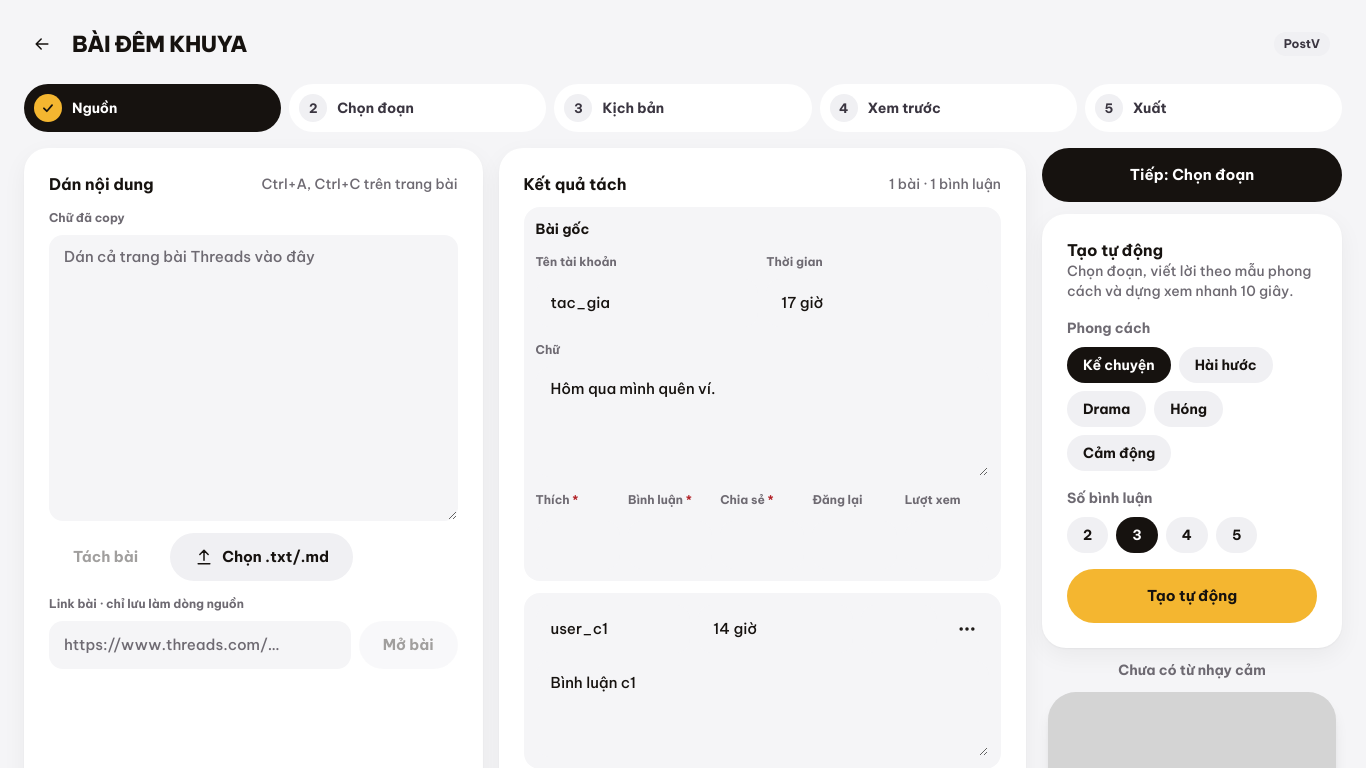
PostvLayout: thanh bước ở đầu › moves between steps with the bar and marks the current one
Click the link with aria-label "Bước 2/5: Chọn đoạn" at (418,108), box [289,84,546,132]
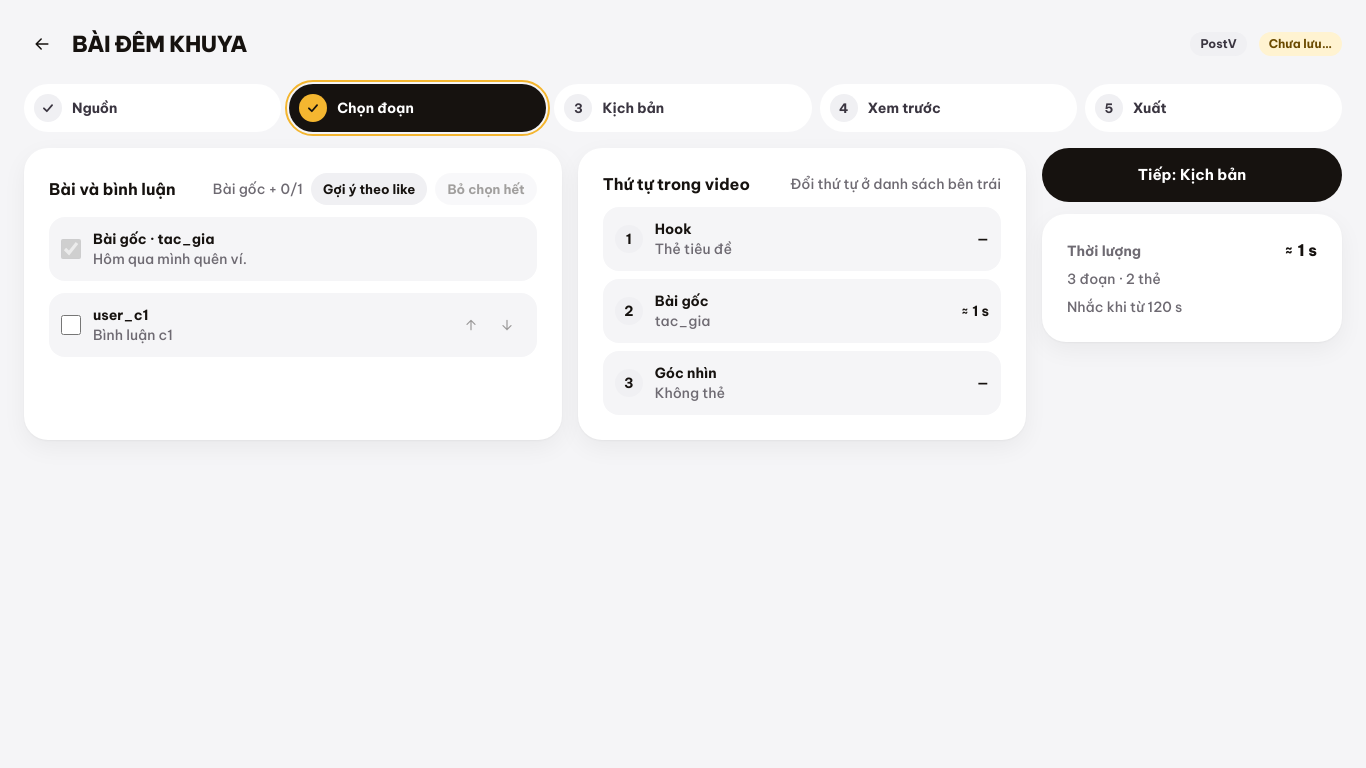
Result: the element "Thứ tự trong video" is shown at [578,148,1026,440]
Click the link with aria-label "Bước 3/5: Kịch bản" at (683,108), box [554,84,812,132]
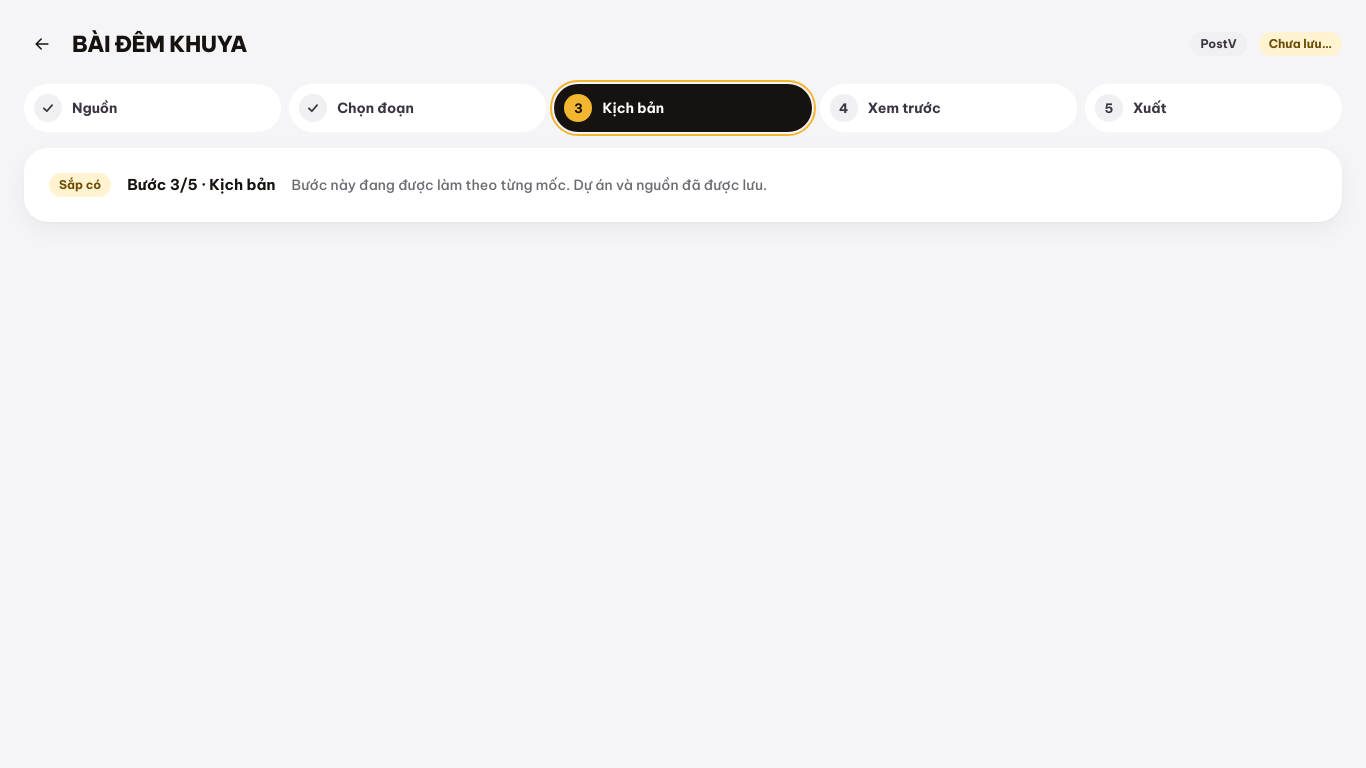
Result: the text "Sắp có" is shown at [49,173,111,197]
